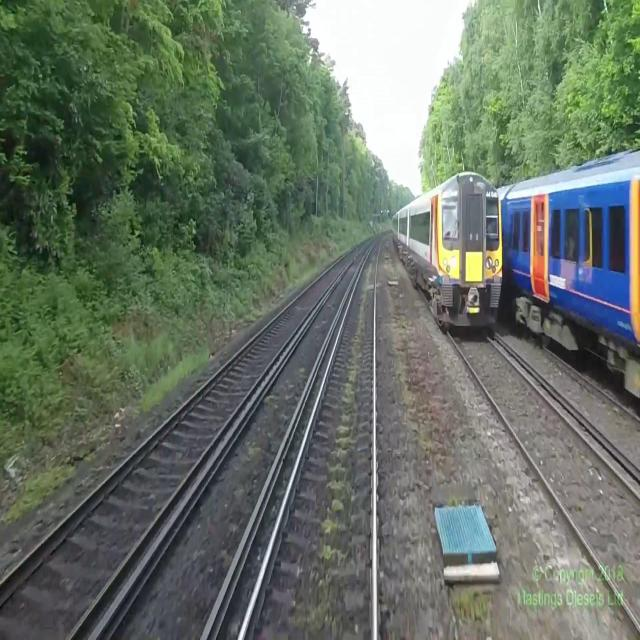rail-track: (0, 235, 374, 639), (242, 238, 383, 639), (449, 331, 640, 621)
